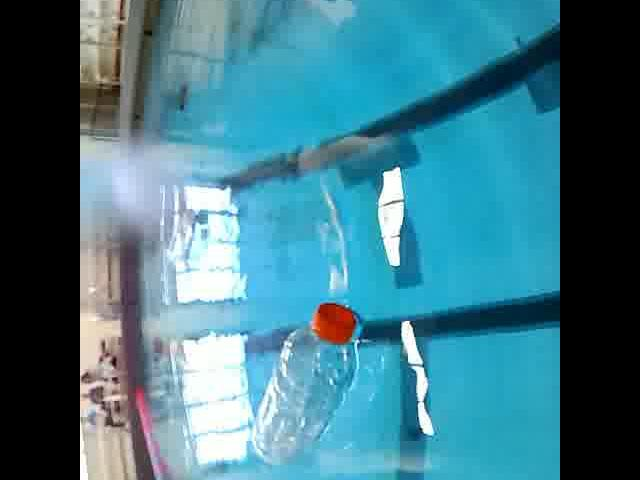Bottle: (243, 292, 369, 468)
